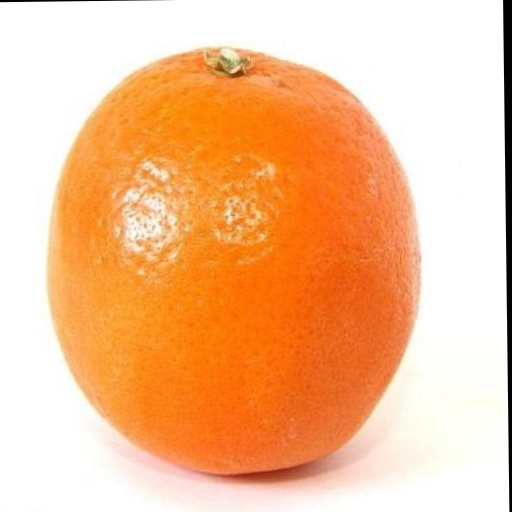fruit: (50, 49, 419, 473)
